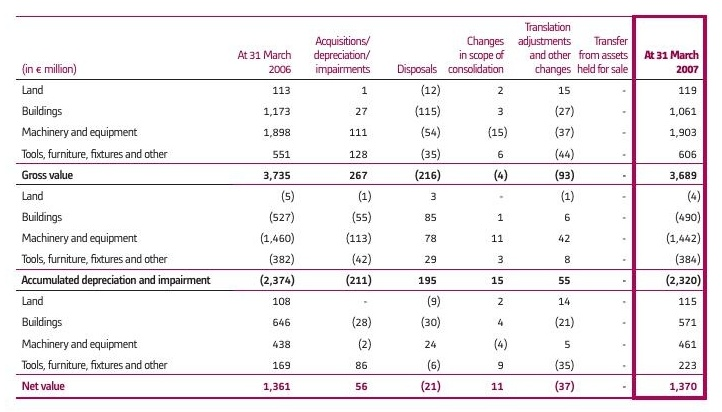table: (0, 0, 722, 412)
